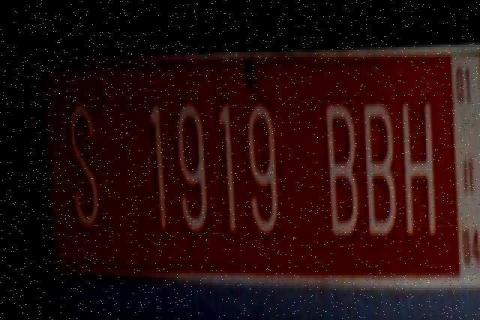LicensePlate: (39, 49, 480, 286)
